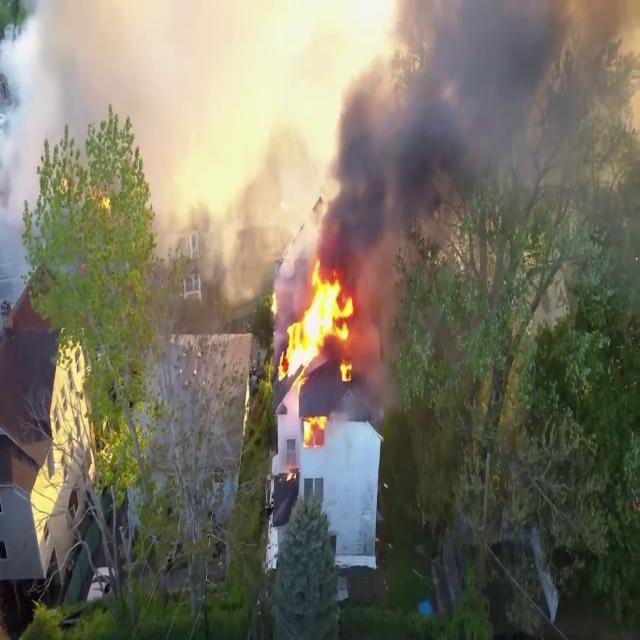Fire: (276, 263, 362, 385), (300, 412, 332, 449)
Smoke: (314, 0, 640, 278)
